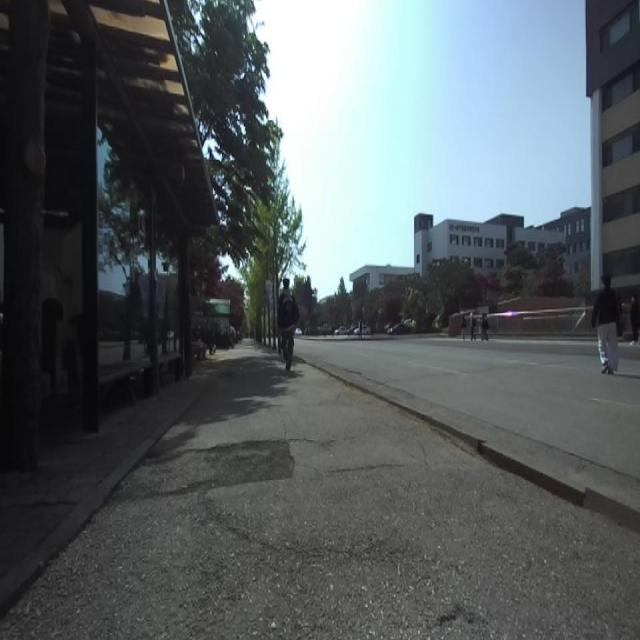sidewalk: (0, 340, 640, 639)
